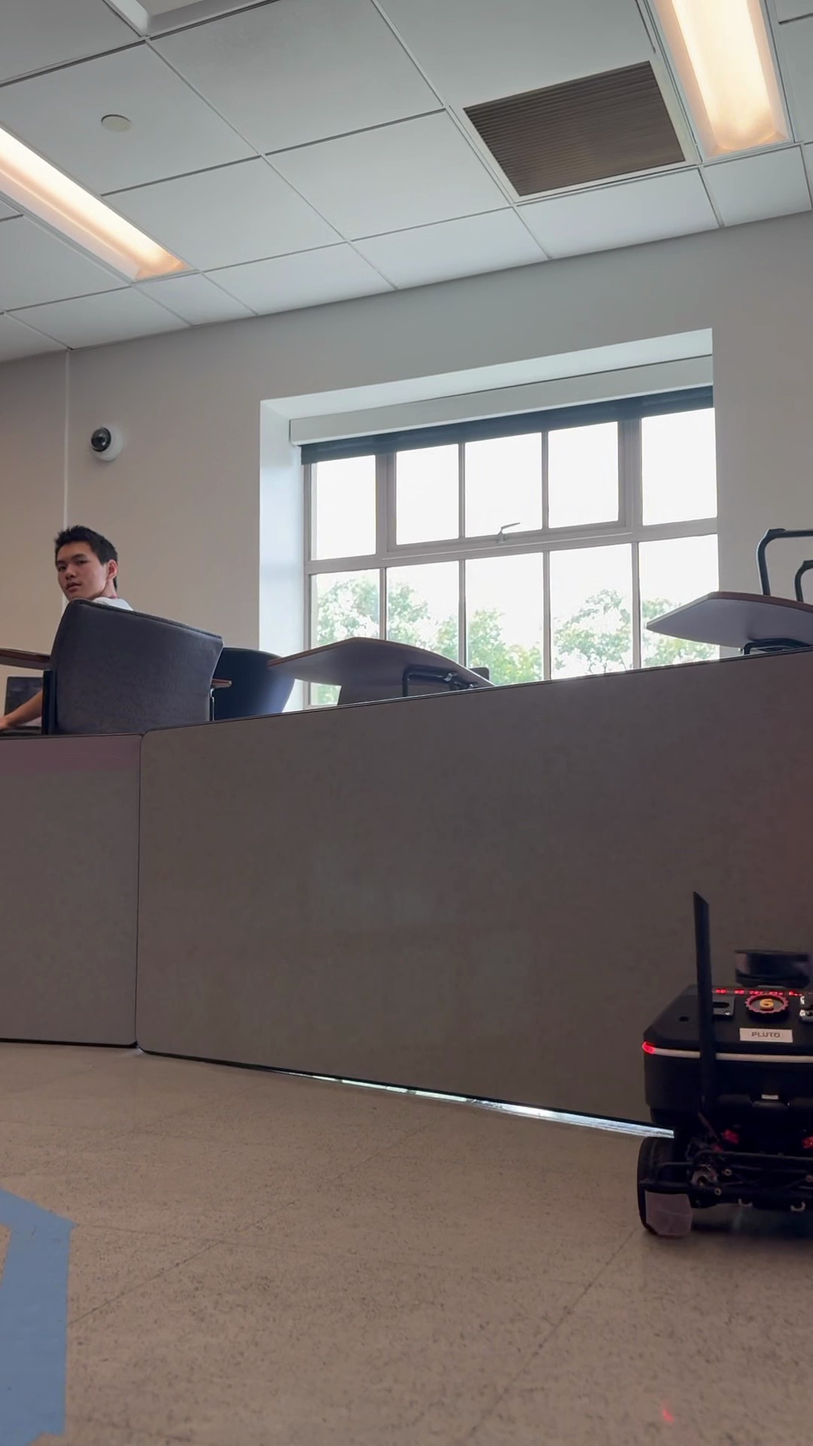racecar: (633, 885, 813, 1244)
